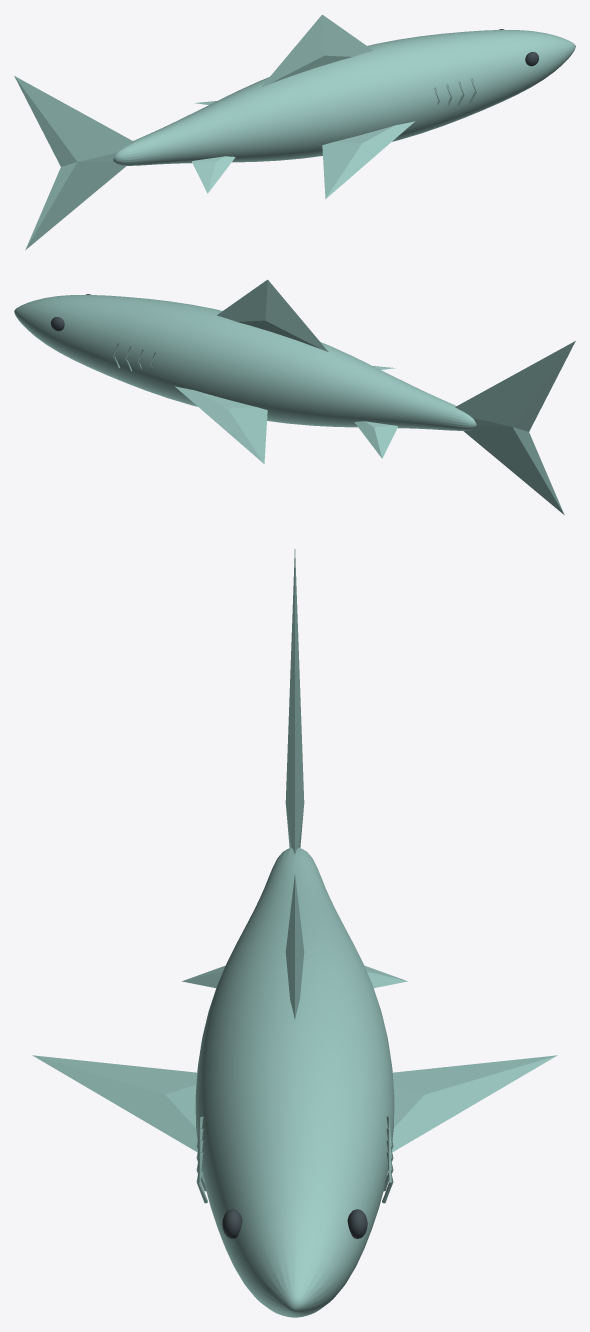
3 views of the same model, one above another, from view 1: azimuth 30°, elevation 25°; view 2: azimuth 150°, elevation 25°; view 3: azimuth 270°, elevation 25° (orthographic). The views are drawn at different scales.
Visible parts, largest first — view 1: Body, Tail, Dorsal, Pectoral, Pelvic; view 2: Body, Tail, Dorsal, Pectoral.001, Pelvic.001; view 3: Body, Pectoral.001, Pectoral, Tail, Dorsal.
Part boxes in pixels (x1=…): Body: x1=113, y1=30, x2=575, y2=165; Tail: x1=14, y1=76, x2=134, y2=249; Dorsal: x1=261, y1=14, x2=372, y2=86; Pectoral: x1=322, y1=121, x2=414, y2=198; Pelvic: x1=192, y1=156, x2=235, y2=193; Body: x1=14, y1=295, x2=476, y2=430; Tail: x1=455, y1=341, x2=575, y2=514; Dorsal: x1=217, y1=279, x2=328, y2=351; Pectoral.001: x1=175, y1=386, x2=267, y2=463; Pelvic.001: x1=354, y1=421, x2=397, y2=458; Body: x1=195, y1=847, x2=394, y2=1317; Pectoral.001: x1=391, y1=1055, x2=557, y2=1152; Pectoral: x1=32, y1=1055, x2=197, y2=1152; Tail: x1=285, y1=549, x2=304, y2=854; Dorsal: x1=285, y1=875, x2=304, y2=1019.
Bounding box in the file's own units: 252 × 76 × 102.
